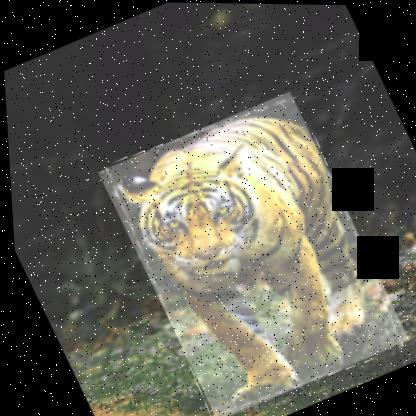Panthera tigris: (92, 87, 412, 415)
